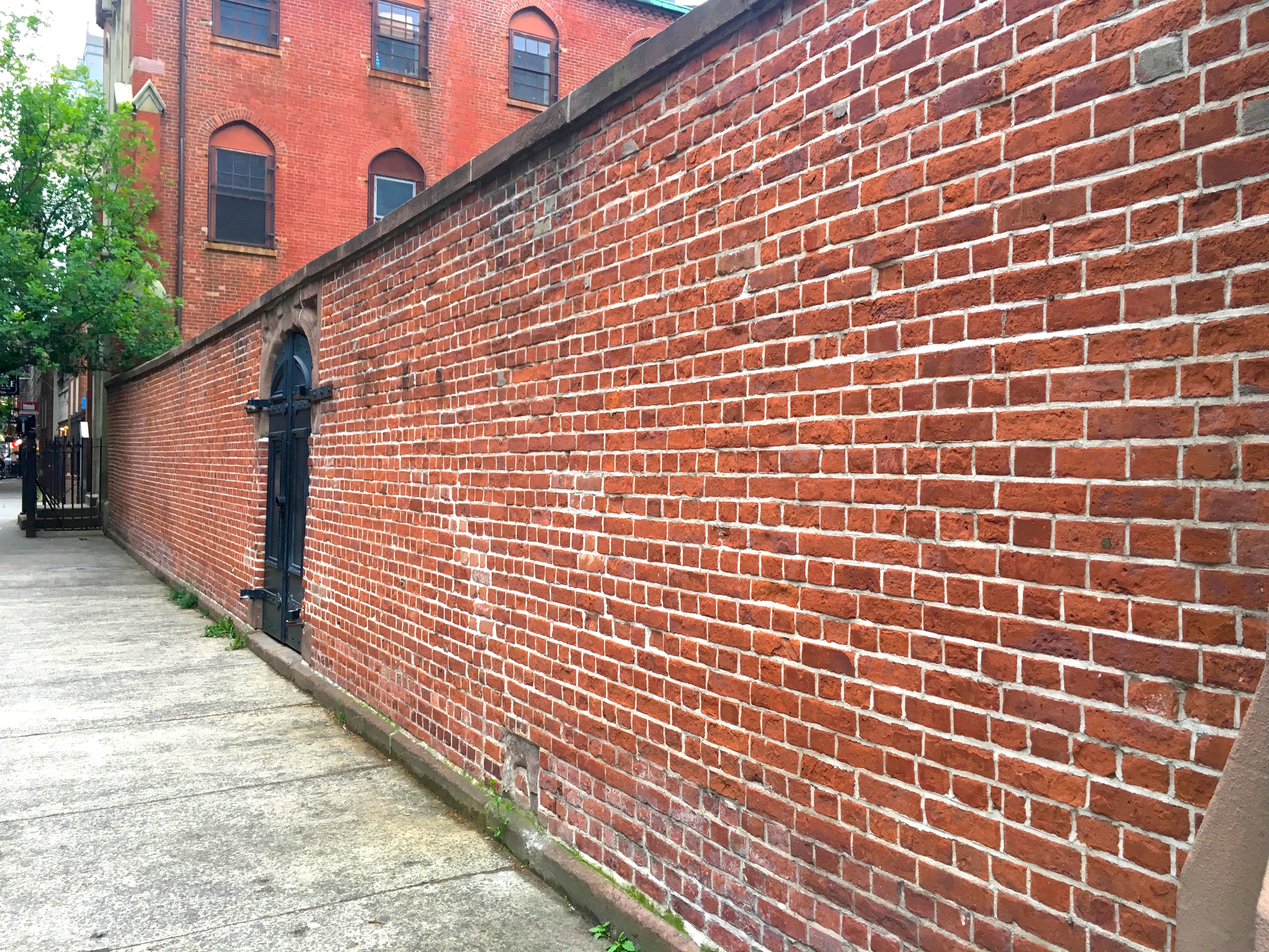Wall: (611, 128, 1170, 887), (334, 284, 1206, 705)
